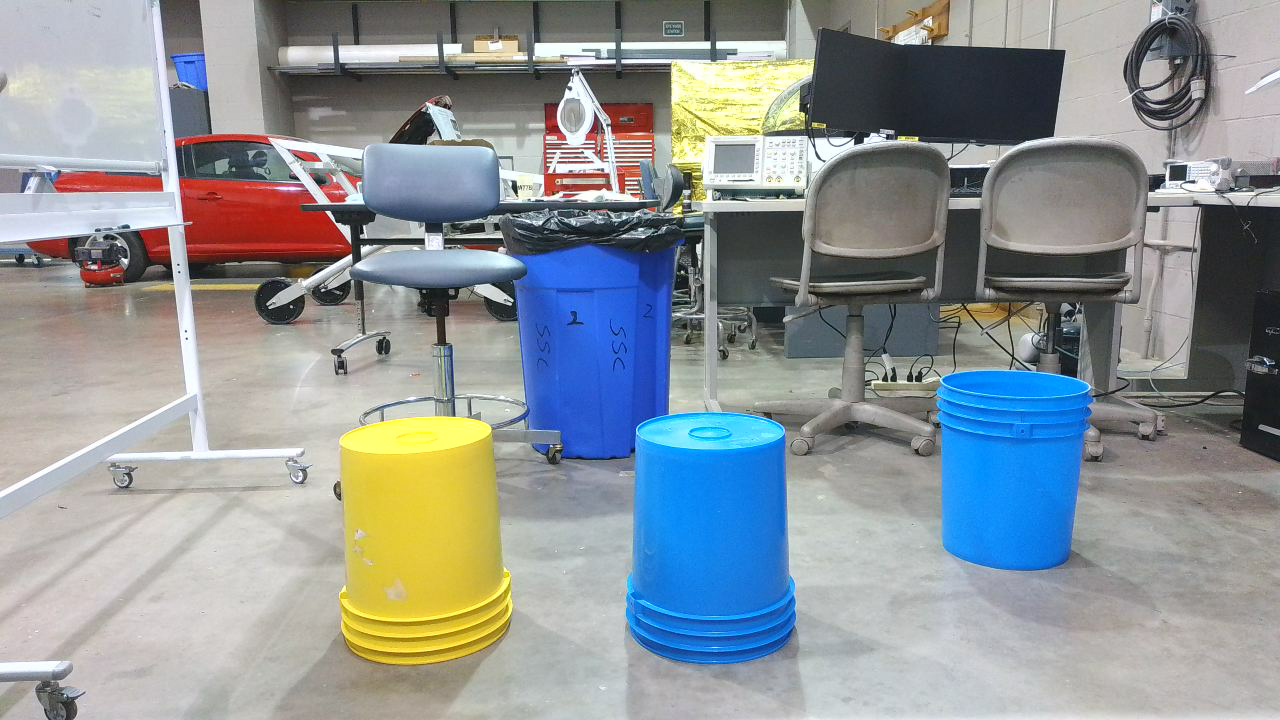blue_bucket: (630, 415, 807, 672), (937, 370, 1100, 577)
yellow_bucket: (338, 418, 520, 672)
